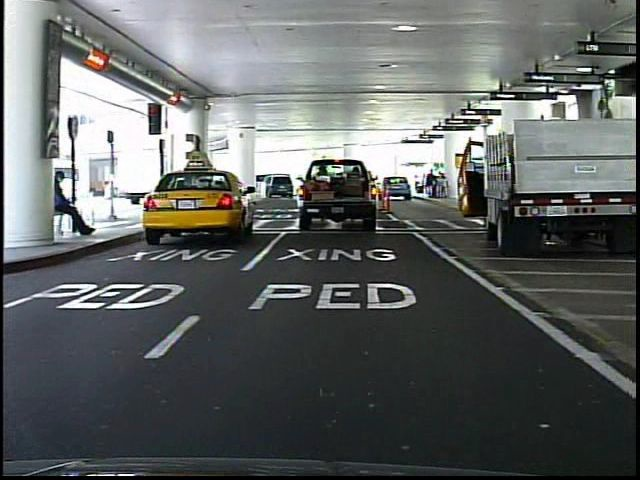person: (58, 168, 102, 243), (153, 166, 175, 219)
